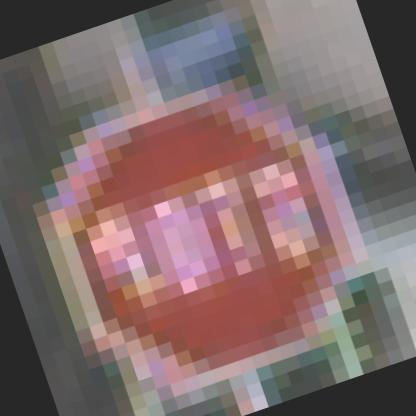stop: (9, 39, 394, 415)
